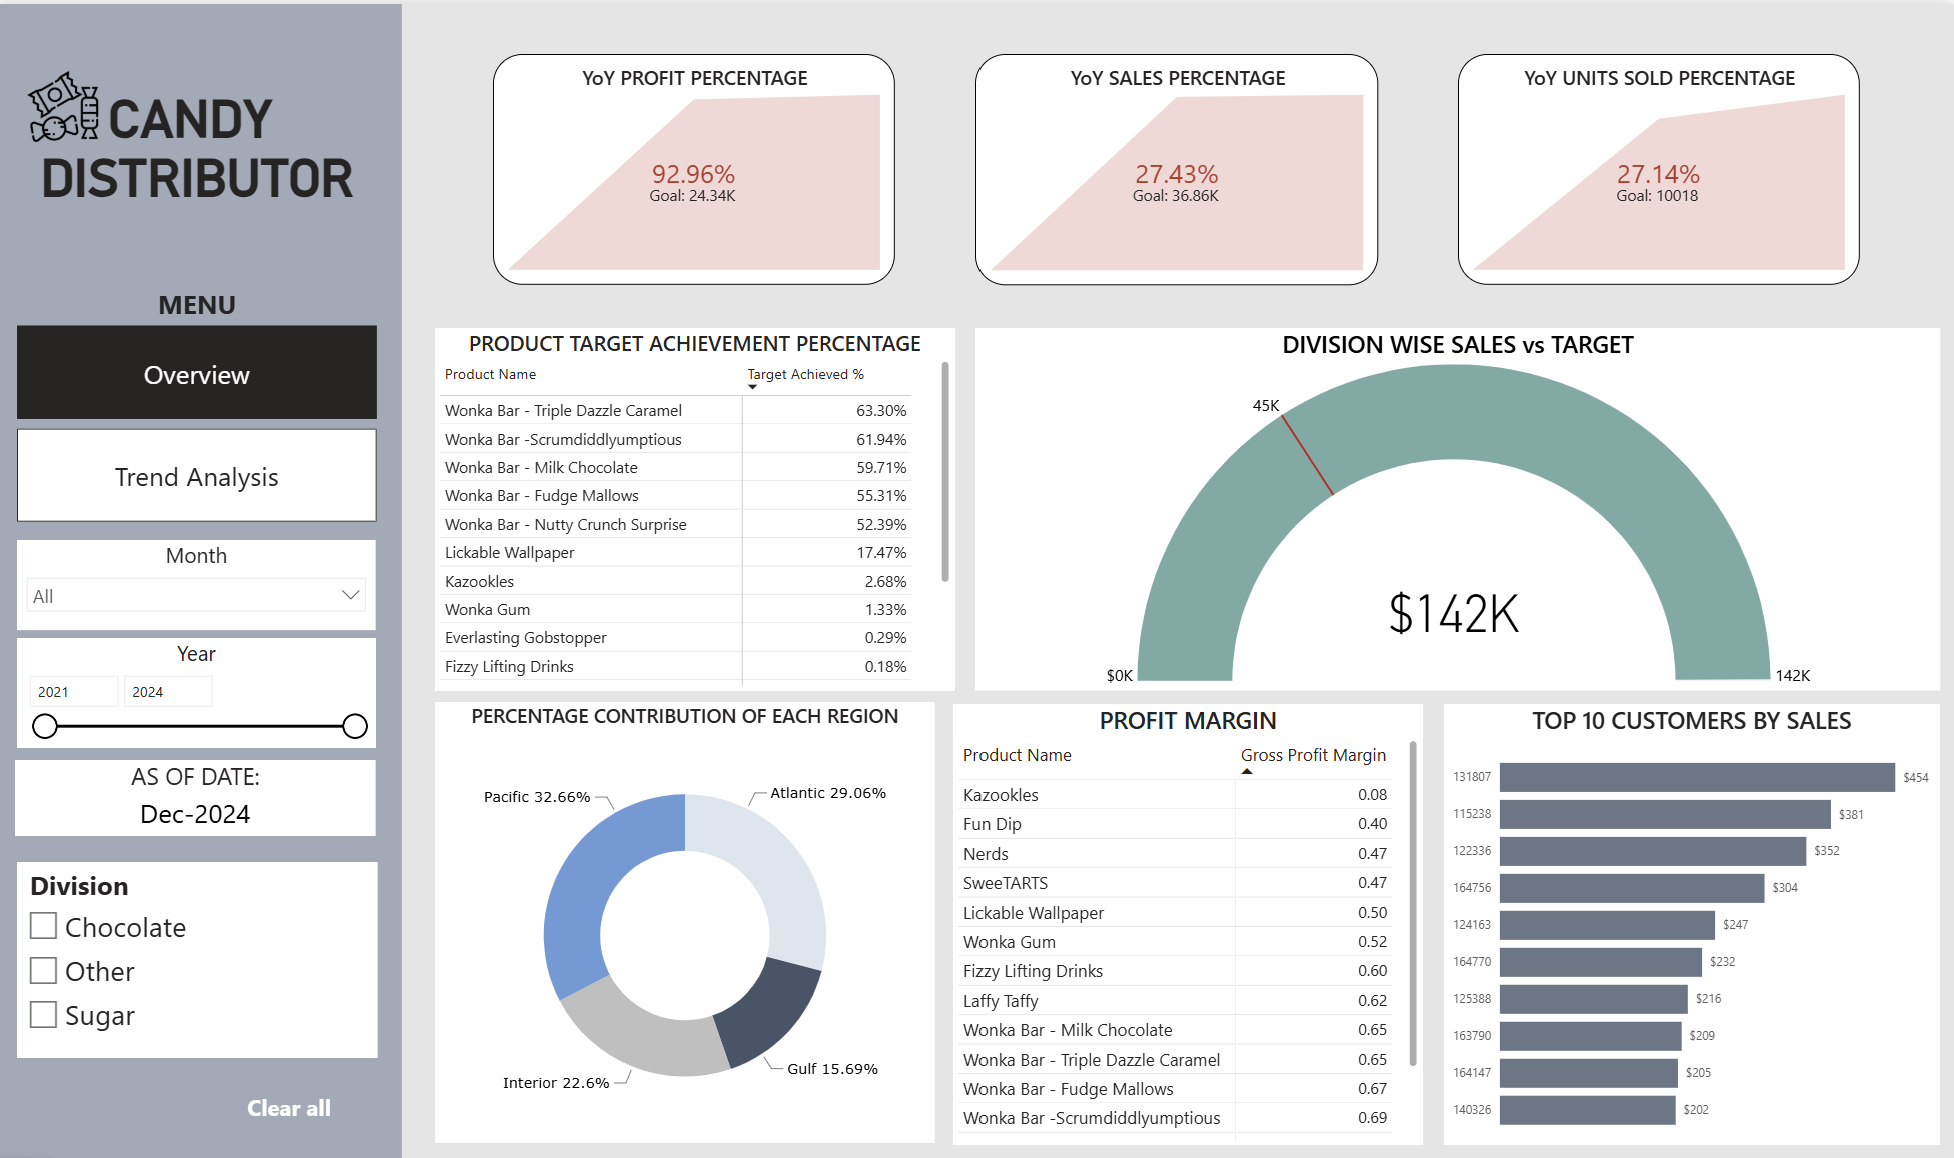

The page's visual inventory and layout, read from the dashboard file:
{"tool":"powerbi","page":{"name":"Overview","canvas":[2000,1185],"ordinal":0},"visuals":[{"type":"shape","title":"AS OF DATE","box":[18,550,370,300],"z":0},{"type":"actionButton","box":[20.8,569.8,367.9,279.2],"z":1000},{"type":"gauge","title":"DIVISION WISE SALES vs TARGET","fields":{"Y":["Candy_Sales.Total Sales"],"TargetValue":["Sum(Candy_Targets.Target)"],"MaxValue":["Candy_Targets.Min target"]},"box":[1000,330,984,370],"z":2000},{"type":"pivotTable","title":"PRODUCT TARGET ACHIEVEMENT PERCENTAGE ","fields":{"Rows":["Candy_Sales.Product Name"],"Values":["Candy_Targets.Target Achieved %"]},"box":[448,330,530,370],"z":3000},{"type":"pivotTable","title":"PROFIT MARGIN","fields":{"Values":["Candy_Sales.Gross Profit Margin"],"Rows":["Candy_Sales.Product Name"]},"box":[978,714,478,450],"z":4000},{"type":"donutChart","title":"PERCENTAGE CONTRIBUTION OF EACH REGION","fields":{"Category":["Candy_Sales.Region"],"Y":["Candy_Sales.Total Sales"]},"box":[448,712,510,450],"z":5000},{"type":"shape","box":[0,0,415.1,1184.9],"z":6000},{"type":"pageNavigator","title":"MENU","box":[22.6,286.8,367.9,241.5],"z":7000},{"type":"slicer","fields":{"Values":["Candy_Targets.Division"]},"box":[22,876,368,200],"z":8000},{"type":"textbox","box":[22,64,368,158],"z":9000},{"type":"image","box":[17.3,63.5,105.8,82.7],"z":10000},{"type":"actionButton","box":[206,1092,188,66],"z":11000},{"type":"slicer","title":"Year","fields":{"Values":["Calendar.Date.Variation.Date Hierarchy.Year"]},"box":[22,646,366,112],"z":12000},{"type":"slicer","title":"Month","fields":{"Values":["Calendar.Date.Variation.Date Hierarchy.Month"]},"box":[22,546,366,92],"z":13000},{"type":"card","title":"AS OF DATE:","fields":{"Values":["Calendar.As of Date"]},"box":[20.8,771.7,367.9,77.4],"z":14000},{"type":"kpi","title":"YoY PROFIT PERCENTAGE","fields":{"Indicator":["Candy_Sales.YoY Profit %"],"TrendLine":["Calendar.Start of the year"],"Goal":["Candy_Sales.Profit Last Year"]},"box":[507.8,51,409.8,235.3],"z":15000},{"type":"kpi","title":"YoY SALES PERCENTAGE","fields":{"Indicator":["Candy_Sales.YoY Sales %"],"TrendLine":["Calendar.Start of the year"],"Goal":["Candy_Sales.Sales Last Year"]},"box":[1000,51.3,410.3,235.9],"z":16000},{"type":"kpi","title":"YoY UNITS SOLD PERCENTAGE ","fields":{"Indicator":["Candy_Sales.YoY units sold %"],"TrendLine":["Calendar.Start of the year"],"Goal":["Candy_Sales.Total units sold Last Year"]},"box":[1492.2,51,409.8,235.3],"z":17000},{"type":"barChart","title":"TOP 10 CUSTOMERS BY SALES","fields":{"Category":["Candy_Sales.Customer ID"],"Y":["Candy_Sales.Total Sales"]},"box":[1478,714,506,450],"z":18000}]}

Visuals, with their boxes in screenshot pixels (x1, y1, x2, y2), scaled from the page's 2000x1185 canvas onto the 1954x1158 screenshot:
"AS OF DATE" shape: 18, 537, 379, 831
actionButton: 20, 557, 380, 830
"DIVISION WISE SALES vs TARGET" gauge: 977, 322, 1938, 684
"PRODUCT TARGET ACHIEVEMENT PERCENTAGE " pivotTable: 438, 322, 956, 684
"PROFIT MARGIN" pivotTable: 956, 698, 1423, 1137
"PERCENTAGE CONTRIBUTION OF EACH REGION" donutChart: 438, 696, 936, 1136
shape: 0, 0, 406, 1157
"MENU" pageNavigator: 22, 280, 382, 516
slicer - Candy_Targets.Division: 21, 856, 381, 1051
textbox: 21, 63, 381, 217
image: 17, 62, 120, 143
actionButton: 201, 1067, 385, 1132
"Year" slicer: 21, 631, 379, 741
"Month" slicer: 21, 534, 379, 623
"AS OF DATE:" card: 20, 754, 380, 830
"YoY PROFIT PERCENTAGE" kpi: 496, 50, 896, 280
"YoY SALES PERCENTAGE" kpi: 977, 50, 1378, 281
"YoY UNITS SOLD PERCENTAGE " kpi: 1458, 50, 1858, 280
"TOP 10 CUSTOMERS BY SALES" barChart: 1444, 698, 1938, 1137
